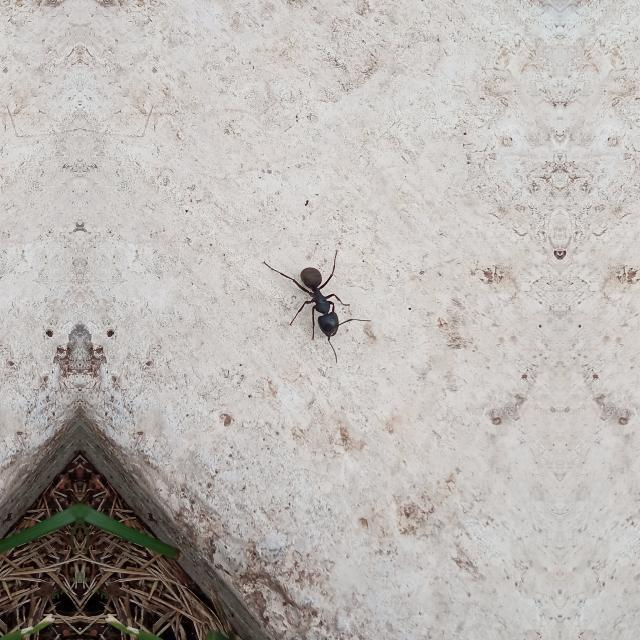Camponotus: (292, 252, 354, 342)
